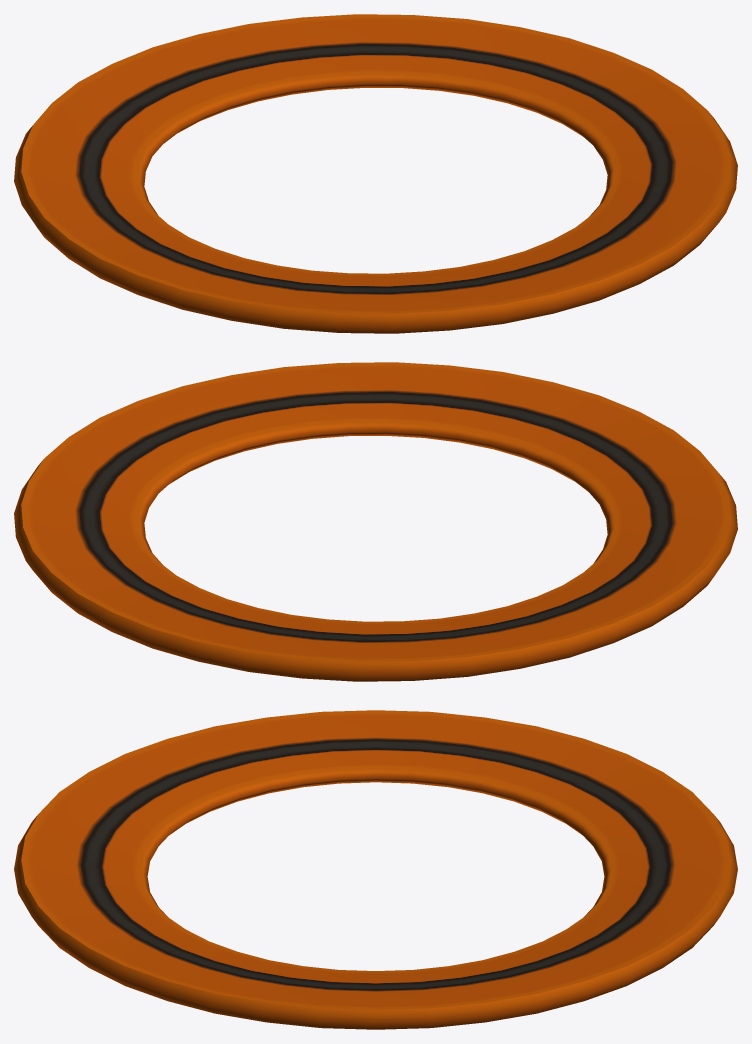
Rendered from Frisbee_Orange_Scaled.fbx.
The picture shows the model from 3 angles, top to bottom: view 1: azimuth 30°, elevation 25°; view 2: azimuth 150°, elevation 25°; view 3: azimuth 270°, elevation 25°; orthographic projection.
Parts seen in each view (by area): view 1: Frisbee2; view 2: Frisbee2; view 3: Frisbee2.
Part boxes in pixels (x1,y1,x2,y2): Frisbee2: (14,14,737,333); Frisbee2: (14,362,737,681); Frisbee2: (14,710,737,1029).
Size of the model in its own units: 41.46 by 1.49 by 41.46.
